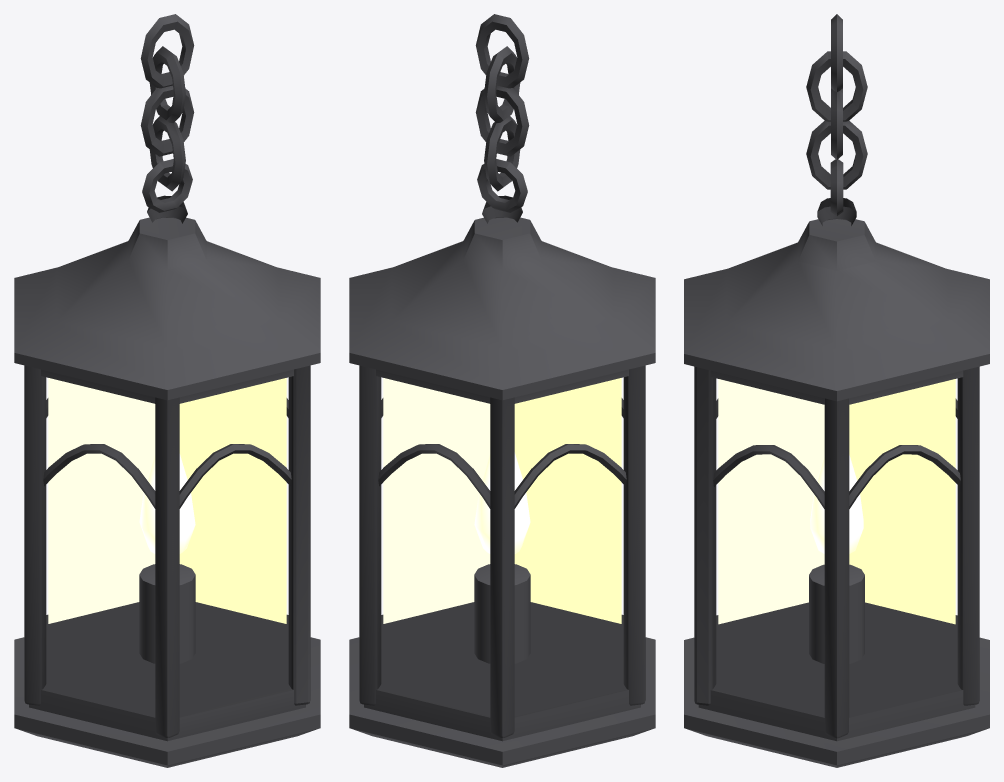
Rendered from lantern.glb.
3 renders of one model, left to right at view 1: azimuth 30°, elevation 25°; view 2: azimuth 150°, elevation 25°; view 3: azimuth 270°, elevation 25°, orthographic.
Parts seen in each view (by area): view 1: lantern; view 2: lantern; view 3: lantern.
Boxes of the visible parts, x1=… form: lantern: x1=14, y1=14, x2=320, y2=767; lantern: x1=349, y1=14, x2=655, y2=767; lantern: x1=684, y1=14, x2=989, y2=767.
Size of the model in its own units: 0.094 by 0.2017 by 0.0814.
